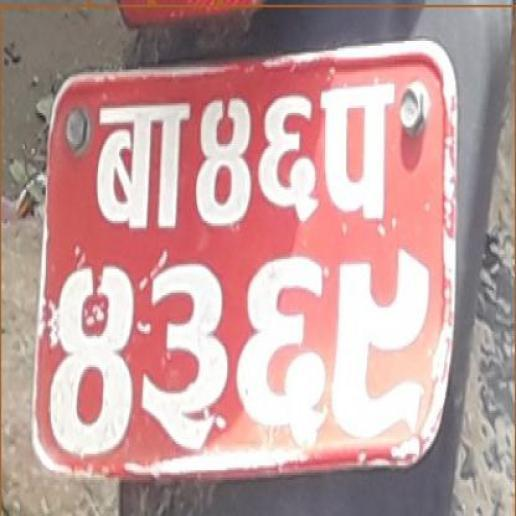3: (142, 262, 225, 449)
4: (49, 264, 136, 454), (195, 98, 252, 228)
6: (235, 257, 328, 442), (256, 93, 318, 221)
9: (330, 252, 428, 423)
ba: (96, 101, 189, 233)
pa: (320, 84, 393, 221)
